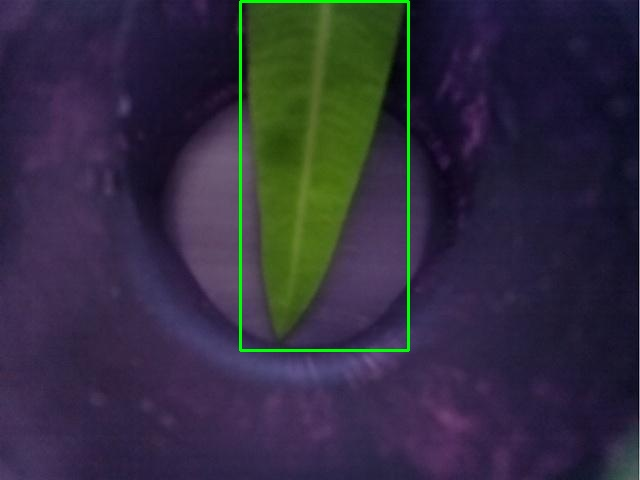feuille: (240, 1, 408, 350)
